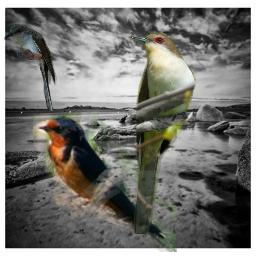Cuckoo: (129, 32, 197, 234), (4, 24, 57, 111)
Swallow: (33, 112, 177, 252)
